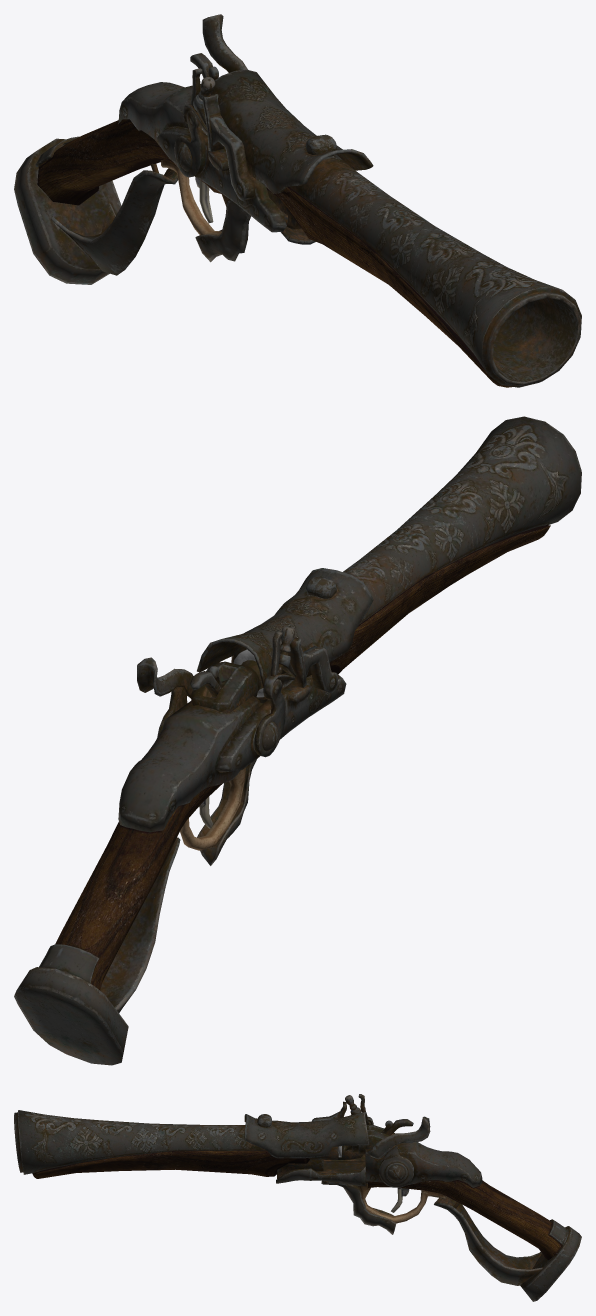
The model's file is Hunter pistol.fbx.
3 views of the same model, one above another, from view 1: azimuth 30°, elevation 25°; view 2: azimuth 150°, elevation 25°; view 3: azimuth 270°, elevation 25° (orthographic). The views are drawn at different scales.
Parts seen in each view (by area): view 1: defaultMaterial; view 2: defaultMaterial; view 3: defaultMaterial.
Boxes of the visible parts, left/top/right/bottom form: defaultMaterial: left=14, top=14, right=581, bottom=387; defaultMaterial: left=14, top=416, right=581, bottom=1065; defaultMaterial: left=14, top=1094, right=581, bottom=1301.
Bounding box in the file's own units: 23.26 × 74.81 × 200.
